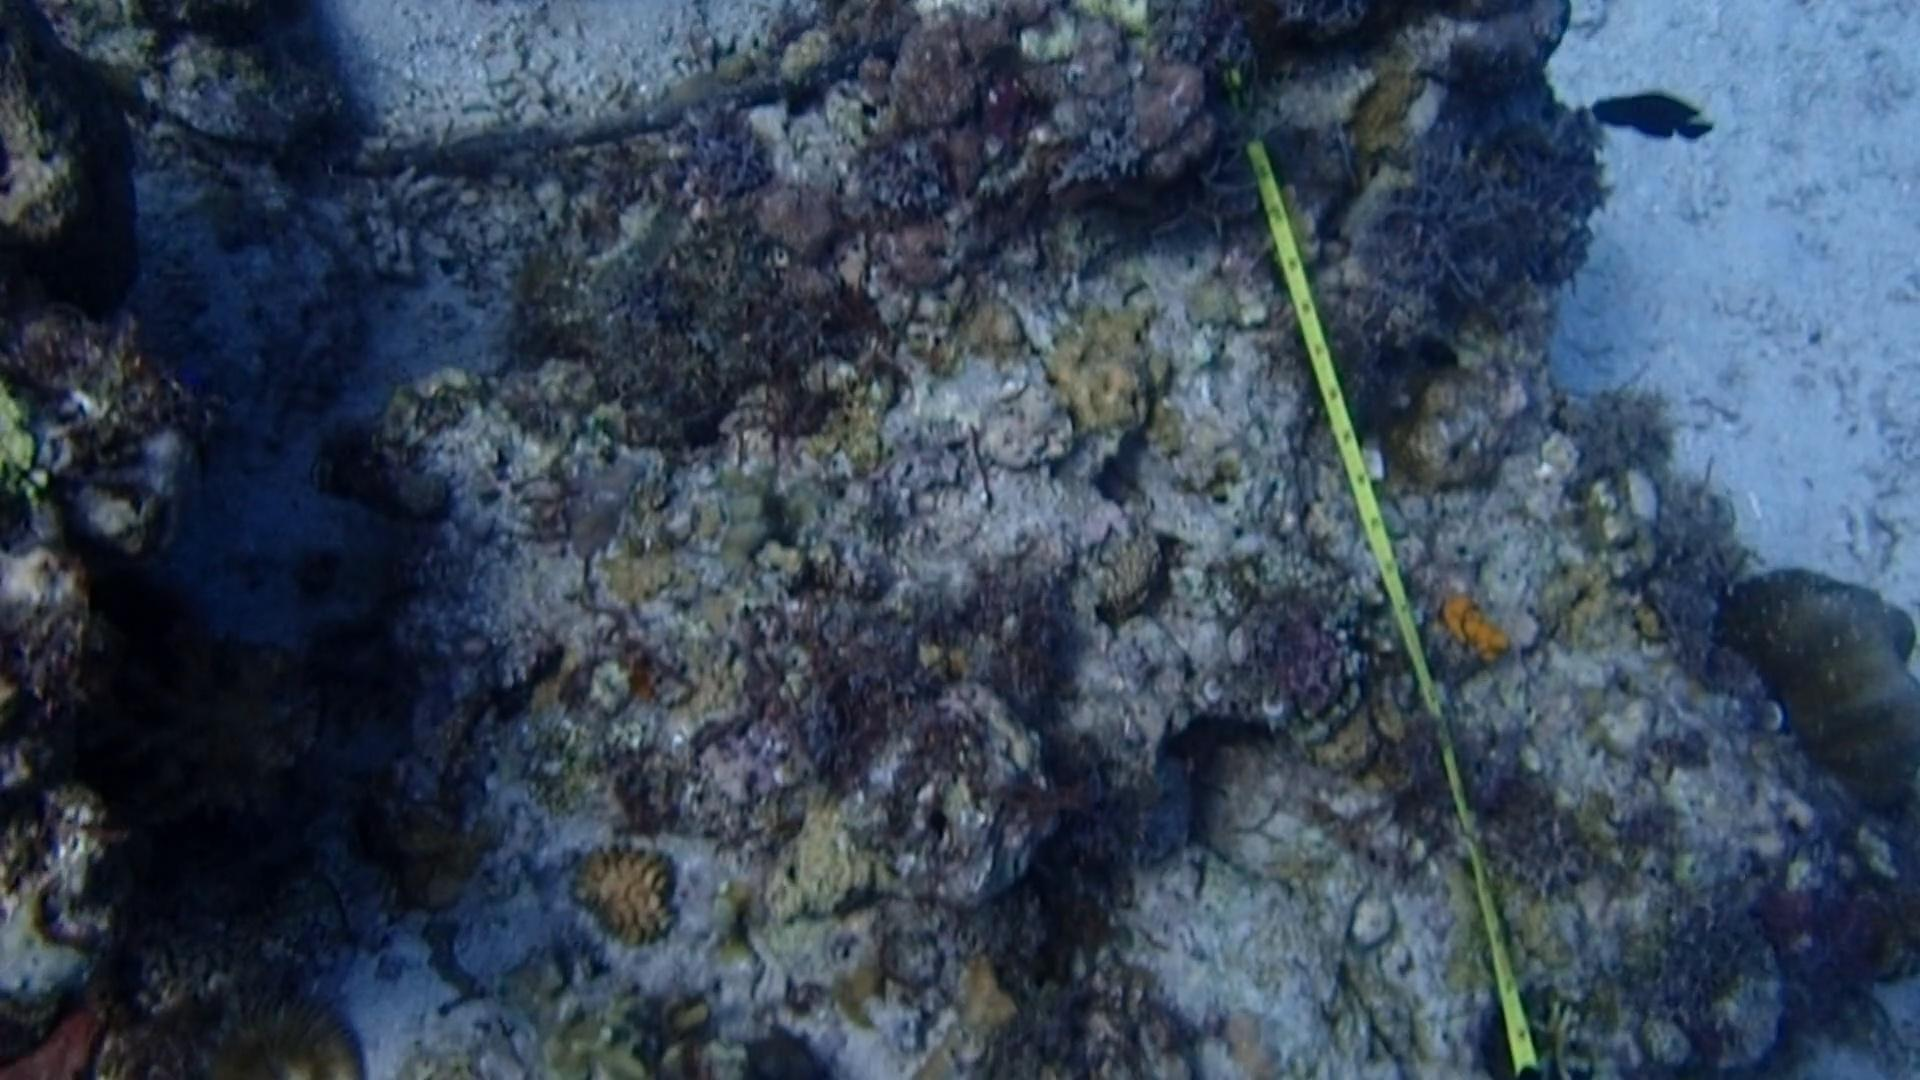Dark Fish: (1582, 75, 1721, 160)
